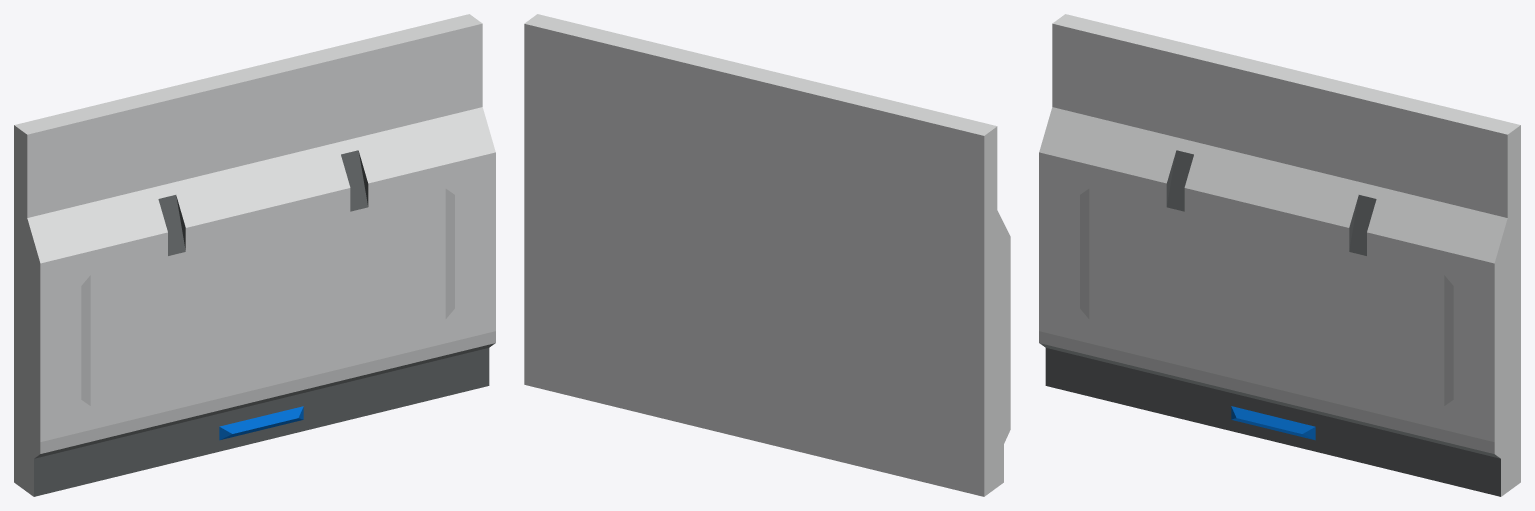
File: Wall_type_A_046.fbx
The picture shows the model from 3 angles, left to right: view 1: azimuth 30°, elevation 25°; view 2: azimuth 150°, elevation 25°; view 3: azimuth 330°, elevation 25°; orthographic projection.
Parts seen in each view (by area): view 1: Wall_type_A_046; view 2: Wall_type_A_046; view 3: Wall_type_A_046.
Part boxes in pixels (x1=…): Wall_type_A_046: x1=14, y1=14, x2=495, y2=496; Wall_type_A_046: x1=524, y1=14, x2=1010, y2=496; Wall_type_A_046: x1=1039, y1=14, x2=1520, y2=496.
Size of the model in its own units: 200 by 20 by 150.
